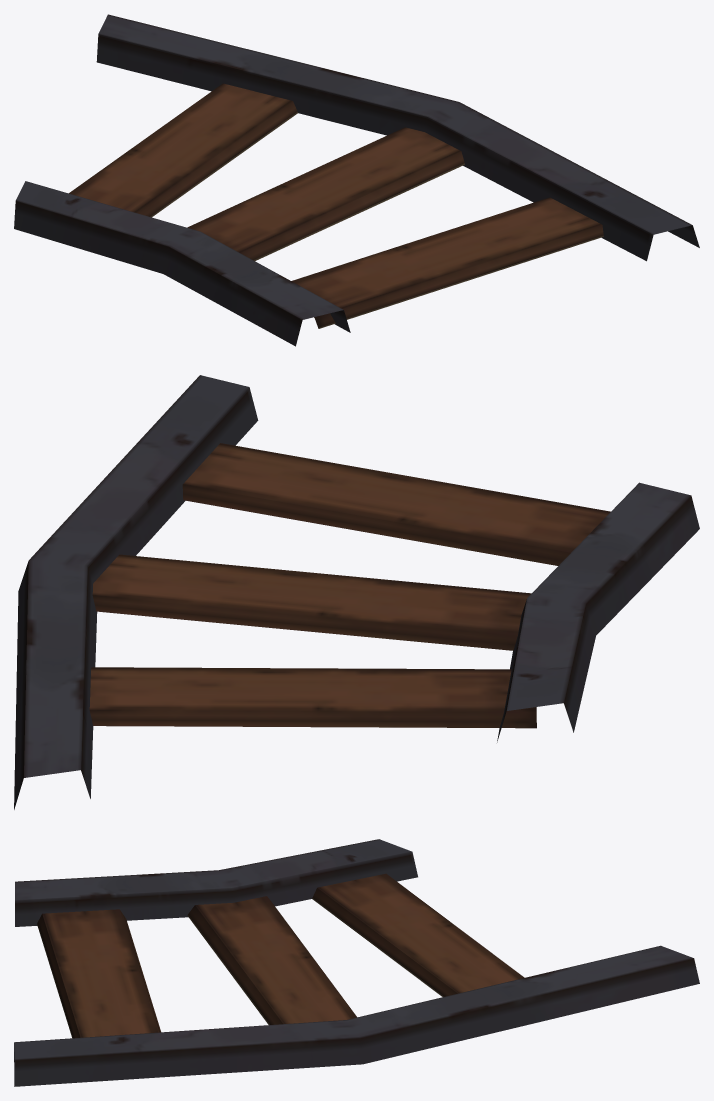
The model's file is 2_DG_TieGui_04.FBX.
3 renders of one model, top to bottom at view 1: azimuth 30°, elevation 25°; view 2: azimuth 150°, elevation 25°; view 3: azimuth 270°, elevation 25°, orthographic. The views are drawn at different scales.
Visible parts, largest first — view 1: 2_DG_TieGui_04; view 2: 2_DG_TieGui_04; view 3: 2_DG_TieGui_04.
Part boxes in pixels (x1,y1,x2,y2): 2_DG_TieGui_04: [14, 14, 699, 346]; 2_DG_TieGui_04: [14, 375, 699, 809]; 2_DG_TieGui_04: [14, 839, 699, 1086].
Bounding box in the file's own units: 289 × 13.89 × 369.
